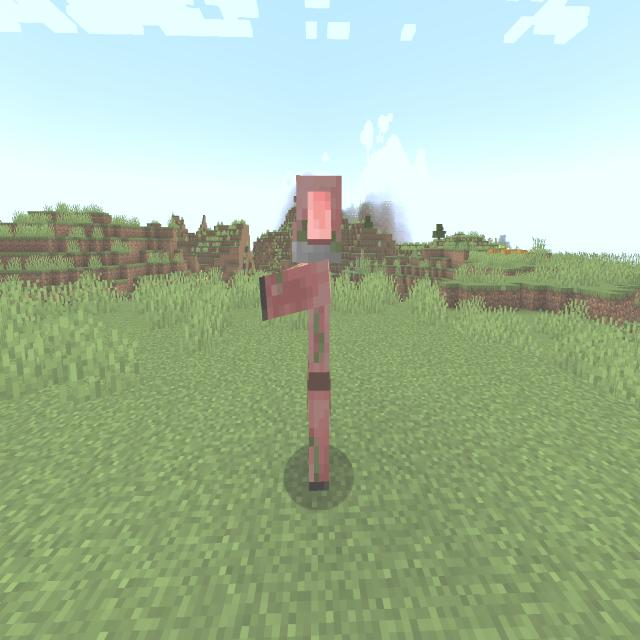Zombified Piglin: (252, 162, 350, 520)
